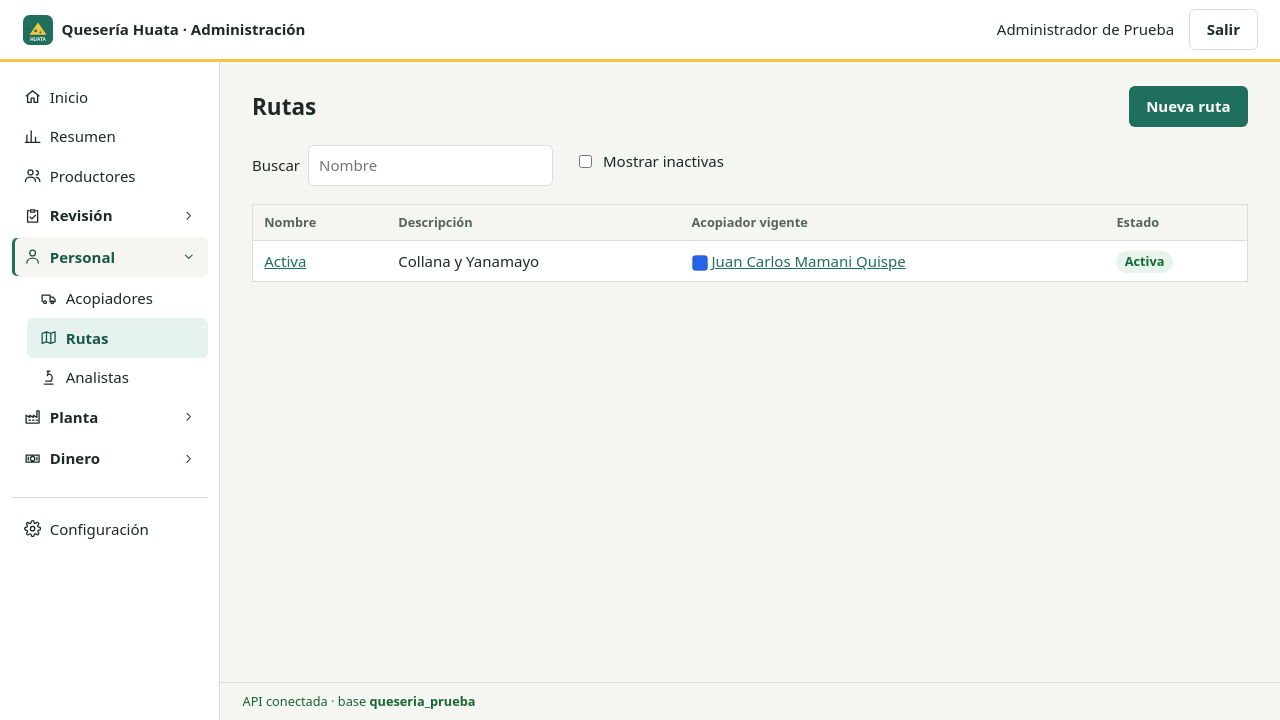
lista de rutas › las inactivas se ocultan hasta marcar 'Mostrar inactivas'
Expected: the link "Activa" is shown, [264, 251, 306, 271]
Expected: the link "Vieja" is not shown
Click the checkbox labelled "Mostrar inactivas": [586, 161] box [579, 155, 592, 168]
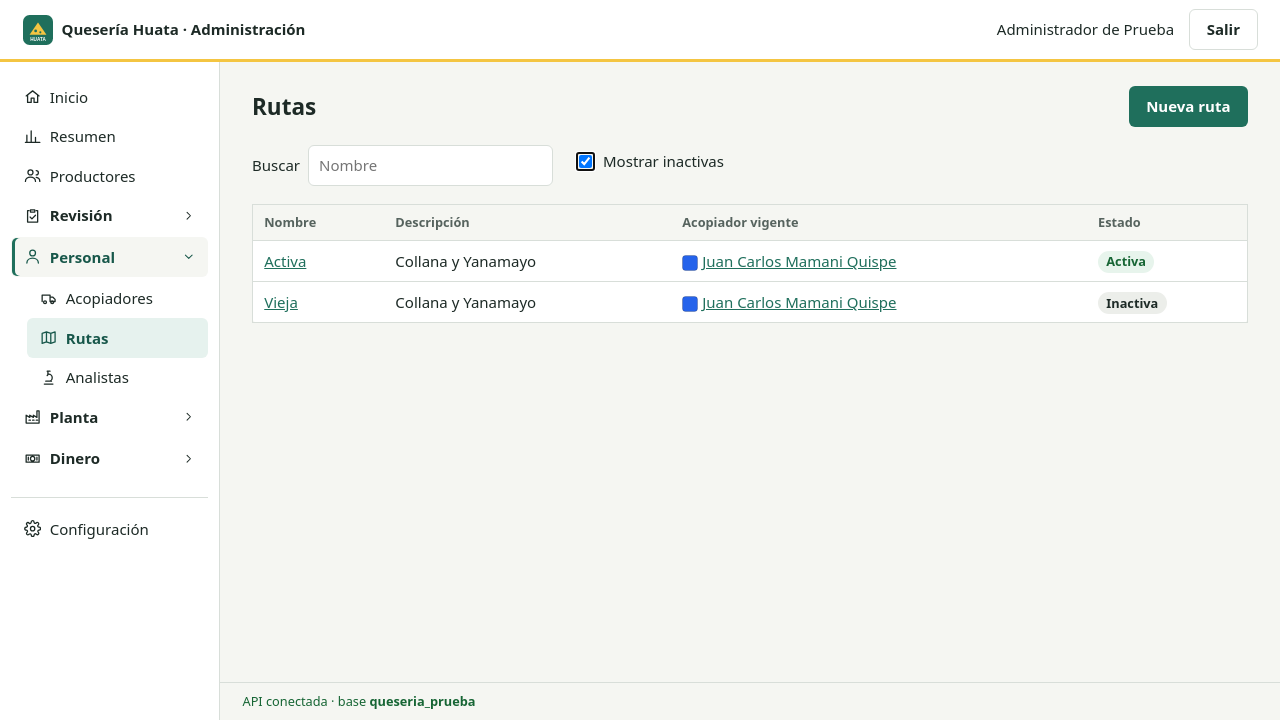
Expected: the text "Inactiva" is shown, [1098, 292, 1166, 314]
